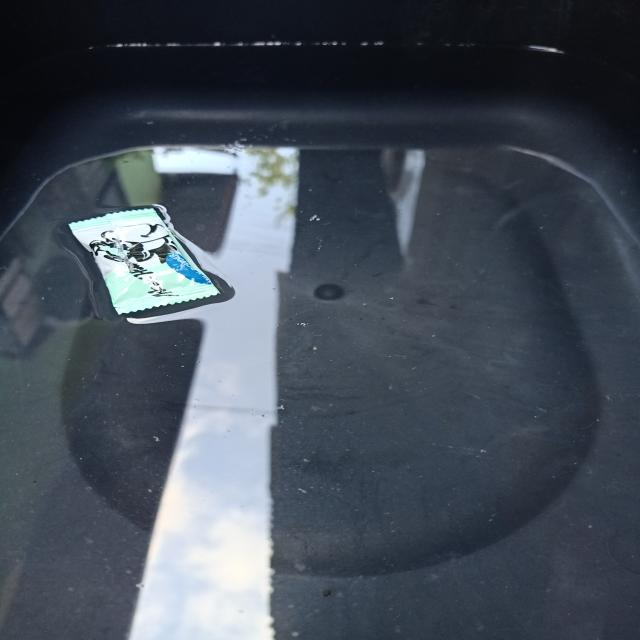Plastic Wrapper: (0, 147, 265, 358)
